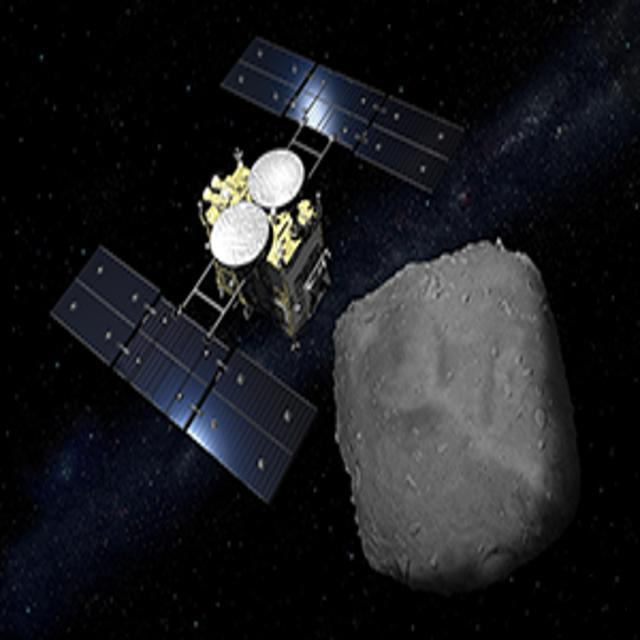debris: (338, 236, 582, 602)
sat: (41, 14, 474, 471)
